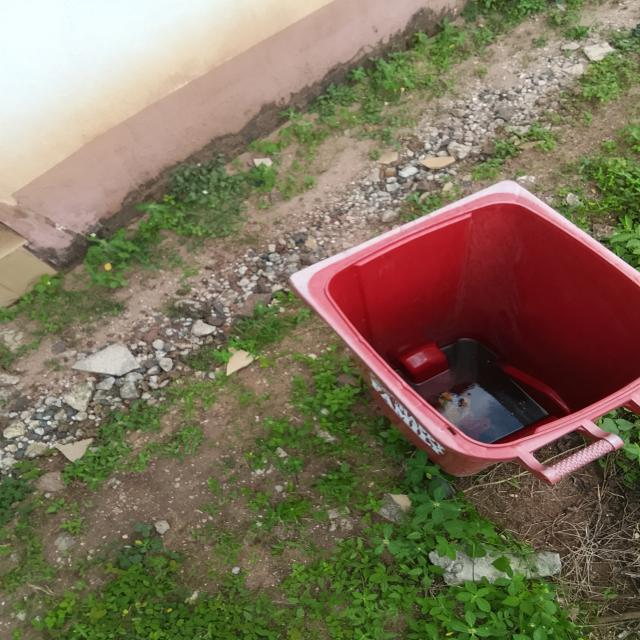empty: (303, 184, 640, 460)
